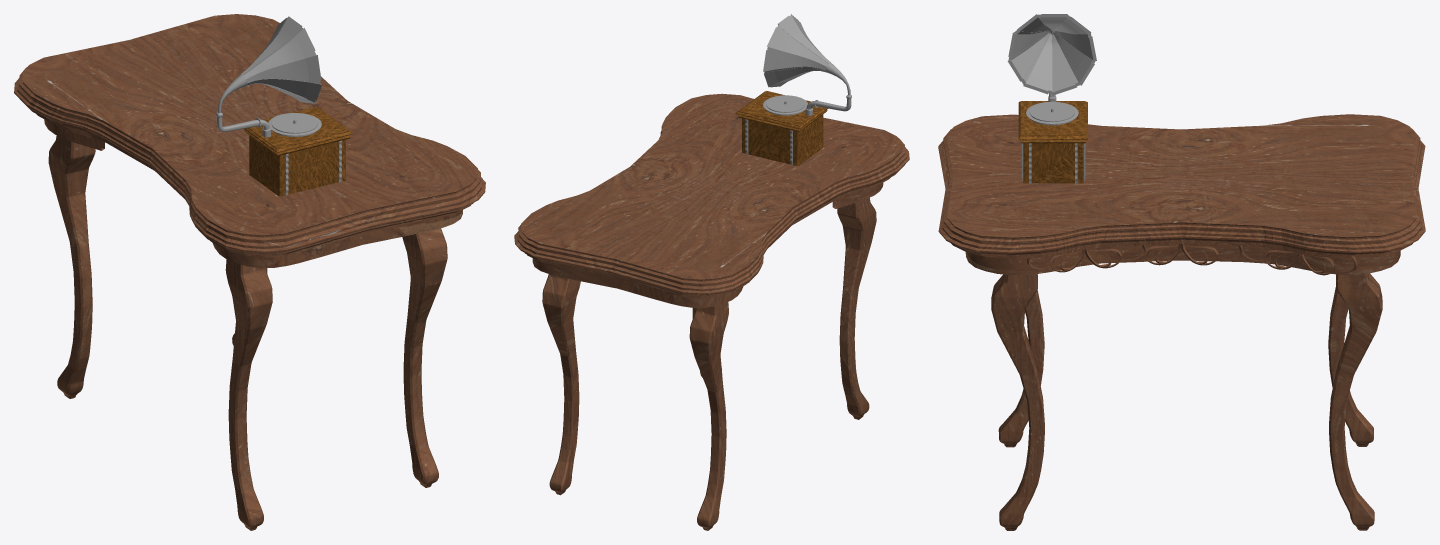
File: FirstSceneMasa1.fbx
3 renders of one model, left to right at view 1: azimuth 30°, elevation 25°; view 2: azimuth 150°, elevation 25°; view 3: azimuth 270°, elevation 25°, orthographic. The views are drawn at different scales.
Parts seen in each view (by area): view 1: group10, pCube60, pasted__polySurface4, pDisc1; view 2: group10, pCube60, pasted__polySurface4, pDisc1; view 3: group10, pasted__polySurface4, pCube60, group3_sweep5, pDisc1.
Boxes of the visible parts, x1=… form: group10: x1=14, y1=14, x2=485, y2=530; pCube60: x1=244, y1=107, x2=353, y2=196; pasted__polySurface4: x1=216, y1=16, x2=321, y2=137; pDisc1: x1=268, y1=113, x2=321, y2=136; group10: x1=514, y1=93, x2=909, y2=530; pCube60: x1=735, y1=91, x2=827, y2=165; pasted__polySurface4: x1=763, y1=14, x2=851, y2=115; pDisc1: x1=763, y1=95, x2=807, y2=115; group10: x1=938, y1=114, x2=1425, y2=530; pasted__polySurface4: x1=1007, y1=14, x2=1096, y2=101; pCube60: x1=1018, y1=101, x2=1087, y2=183; group3_sweep5: x1=1027, y1=244, x2=1357, y2=275; pDisc1: x1=1026, y1=101, x2=1078, y2=125.
Size of the model in its own units: 20.24 by 34.26 by 32.6.
3 materials, 2 textured.
